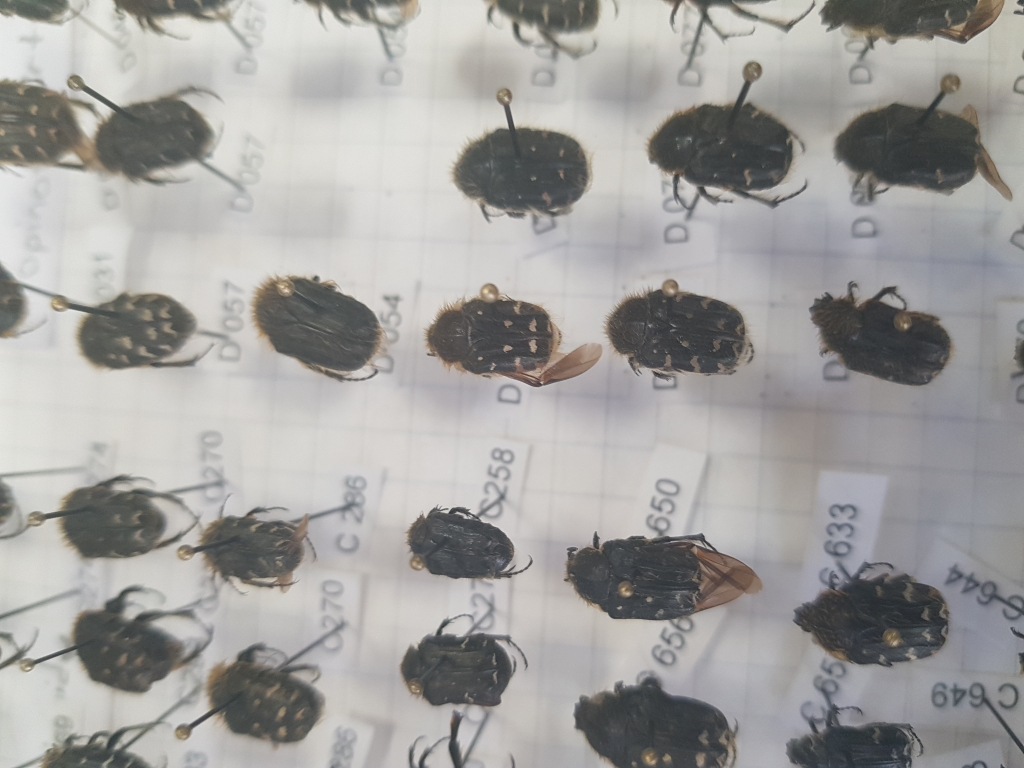Tropinota_hirta: (594, 275, 769, 402), (428, 282, 588, 394)
